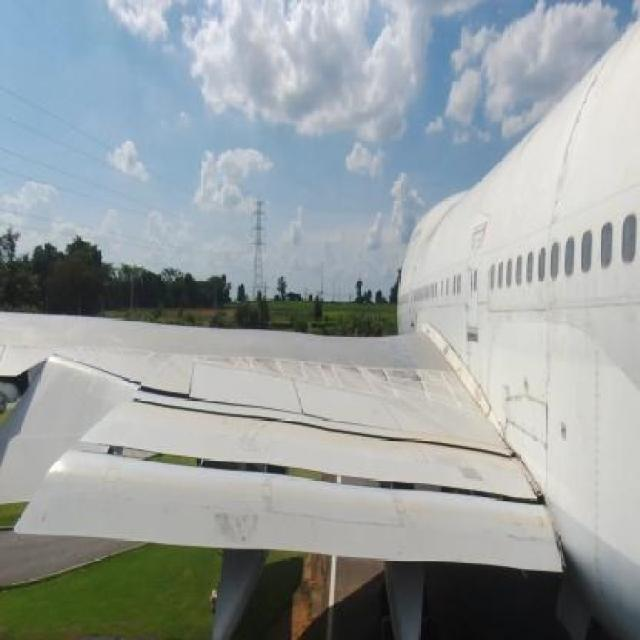Scartch: (550, 59, 608, 208), (195, 494, 274, 546), (359, 365, 432, 413), (508, 405, 547, 457), (233, 359, 302, 384)
